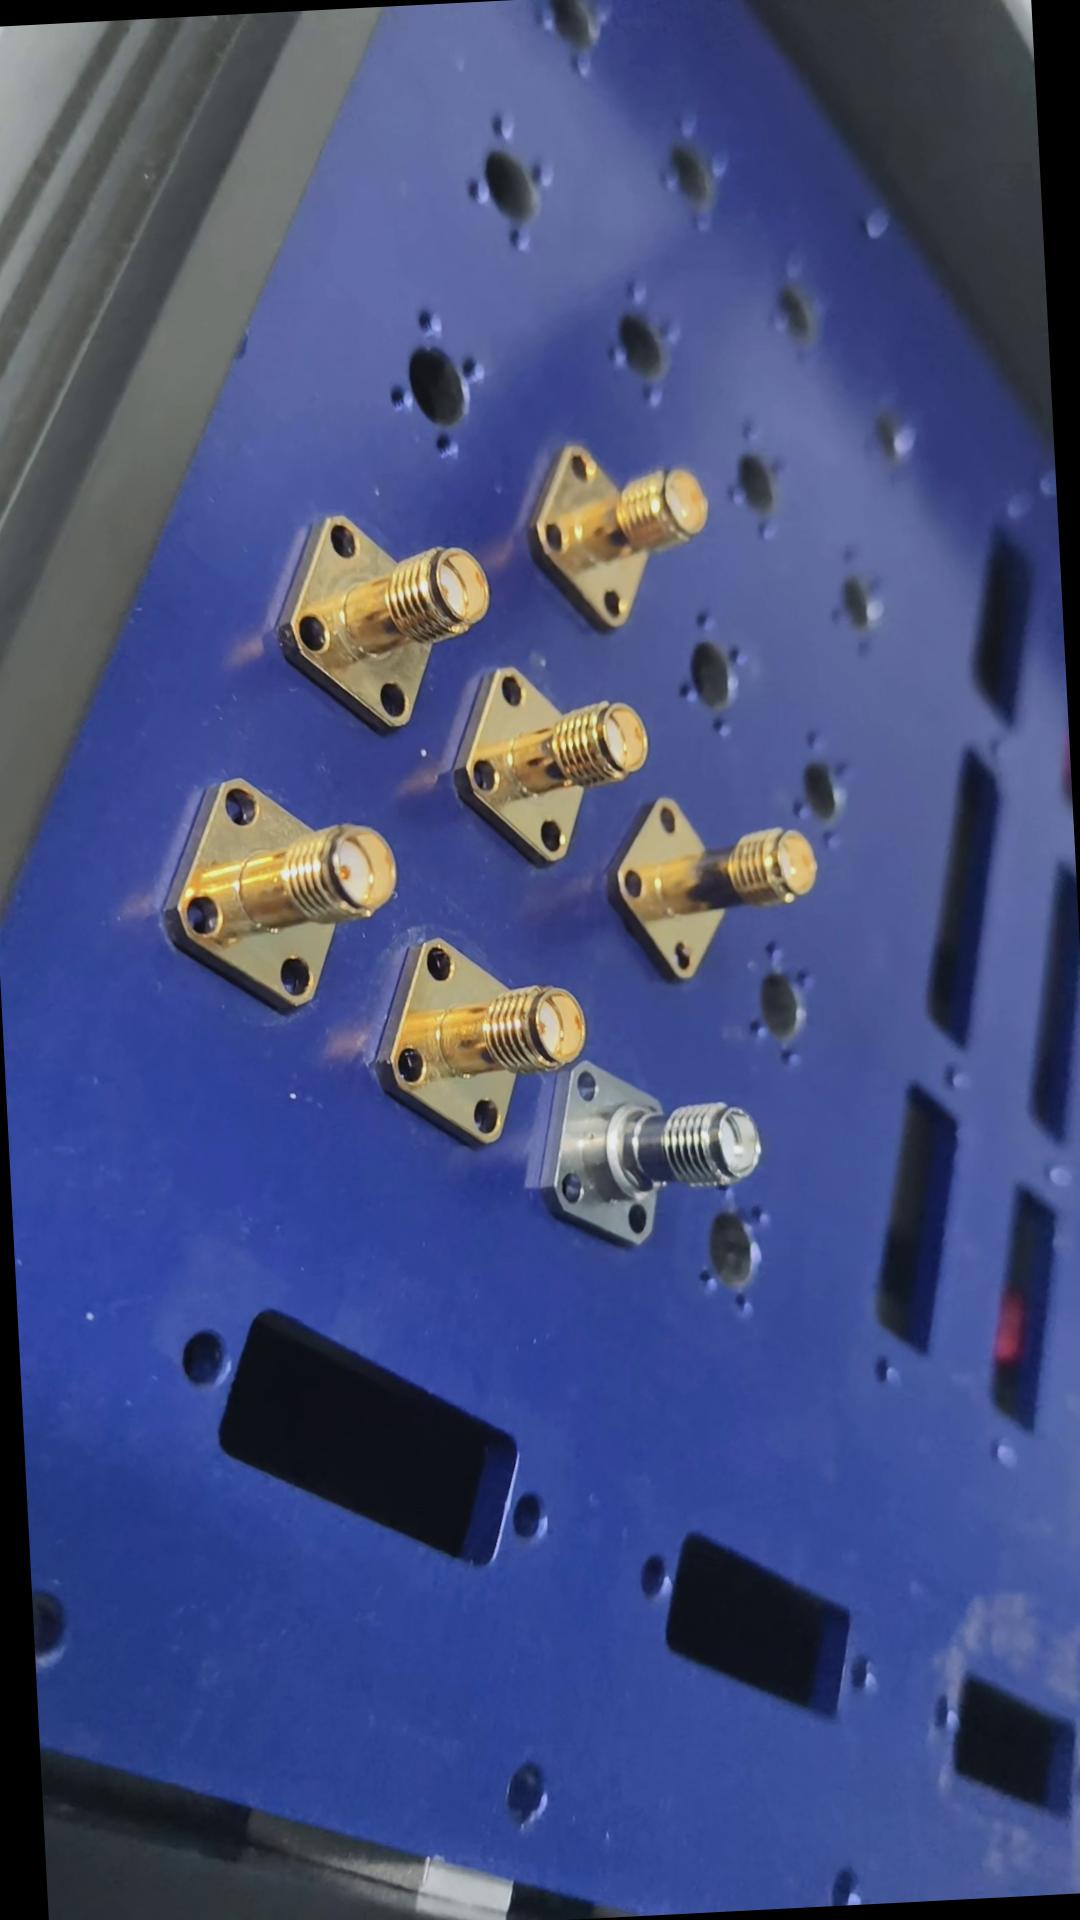SMA: (156, 769, 405, 1017), (273, 504, 495, 742), (535, 1034, 773, 1254), (377, 927, 593, 1146), (447, 647, 655, 866), (615, 779, 823, 981), (531, 430, 720, 637)
